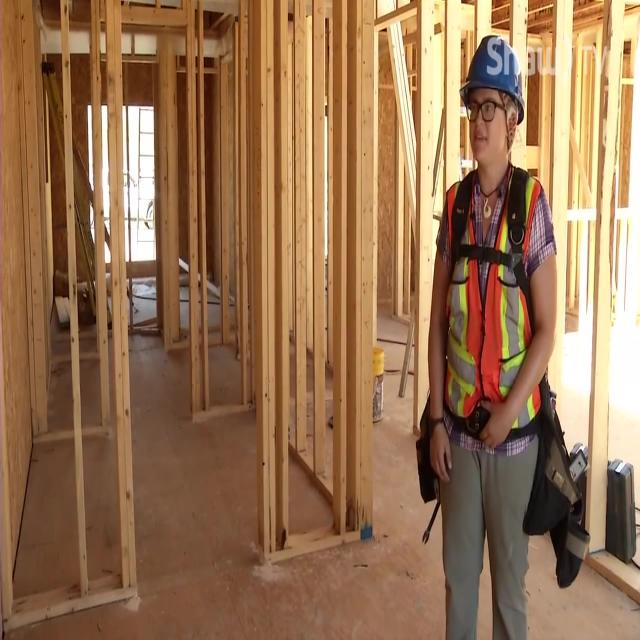Reflective-Jacket: (419, 163, 566, 457)
Safety-Helmet: (454, 27, 532, 122)
